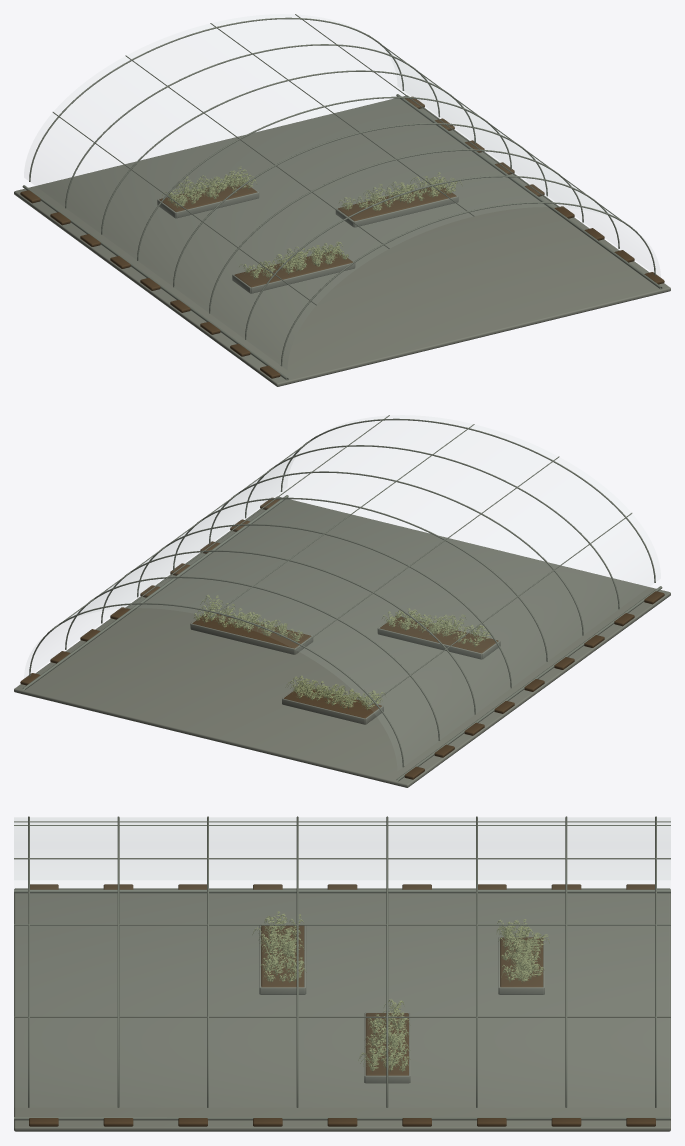
File: light_garden.glb
3 views of the same model, one above another, from view 1: azimuth 30°, elevation 25°; view 2: azimuth 150°, elevation 25°; view 3: azimuth 270°, elevation 25° (orthographic). The views are drawn at different scales.
Parts seen in each view (by area): view 1: Garden_Warm limestone, Garden_Aged bronze frame, Garden_Deep garden soil, Garden_Dry greenhouse leaves, Glass_roof; view 2: Garden_Warm limestone, Garden_Aged bronze frame, Garden_Deep garden soil, Glass_roof, Garden_Dry greenhouse leaves; view 3: Garden_Warm limestone, Glass_roof, Garden_Aged bronze frame, Garden_Deep garden soil, Garden_Dry greenhouse leaves.
Boxes of the visible parts, bbox=[...] form: Garden_Warm limestone: bbox=[14, 95, 670, 386]; Garden_Aged bronze frame: bbox=[22, 14, 662, 380]; Garden_Deep garden soil: bbox=[20, 96, 664, 378]; Garden_Dry greenhouse leaves: bbox=[162, 166, 462, 279]; Glass_roof: bbox=[383, 48, 618, 220]; Garden_Warm limestone: bbox=[14, 496, 670, 787]; Garden_Aged bronze frame: bbox=[22, 415, 662, 781]; Garden_Deep garden soil: bbox=[20, 497, 664, 779]; Glass_roof: bbox=[68, 450, 300, 620]; Garden_Dry greenhouse leaves: bbox=[194, 594, 490, 710]; Garden_Warm limestone: bbox=[14, 888, 670, 1131]; Glass_roof: bbox=[14, 818, 670, 879]; Garden_Aged bronze frame: bbox=[14, 816, 670, 1120]; Garden_Deep garden soil: bbox=[29, 884, 655, 1126]; Garden_Dry greenhouse leaves: bbox=[252, 911, 549, 1071].
Bounding box in the file's own units: 38 × 11.42 × 44.
